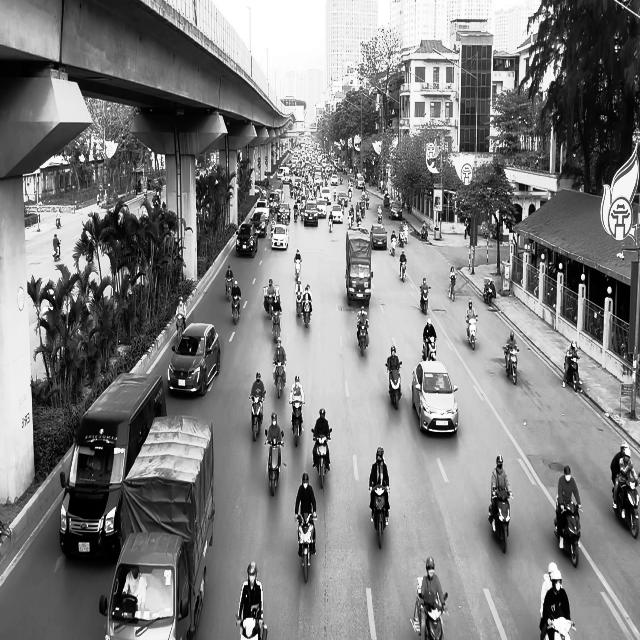car: (167, 322, 221, 396), (412, 360, 458, 436), (370, 223, 388, 250), (271, 224, 289, 250), (330, 204, 344, 223)
motorbike: (554, 497, 581, 567), (612, 471, 640, 538), (488, 488, 513, 554), (295, 512, 317, 582), (370, 483, 390, 549), (312, 428, 333, 490), (265, 431, 285, 496), (236, 613, 268, 639), (250, 390, 266, 441), (386, 360, 402, 410), (290, 399, 305, 447), (562, 355, 581, 392), (503, 345, 520, 384), (273, 360, 287, 398), (356, 320, 369, 356), (466, 314, 478, 350), (271, 306, 282, 342), (423, 336, 437, 361), (420, 286, 431, 314), (483, 277, 494, 305), (231, 294, 241, 324), (302, 298, 312, 328), (295, 286, 304, 316), (176, 314, 186, 338), (53, 238, 61, 261), (294, 259, 302, 281), (400, 259, 407, 282), (390, 236, 397, 256)
truck: (99, 414, 216, 639), (59, 372, 167, 560), (346, 227, 374, 306)
